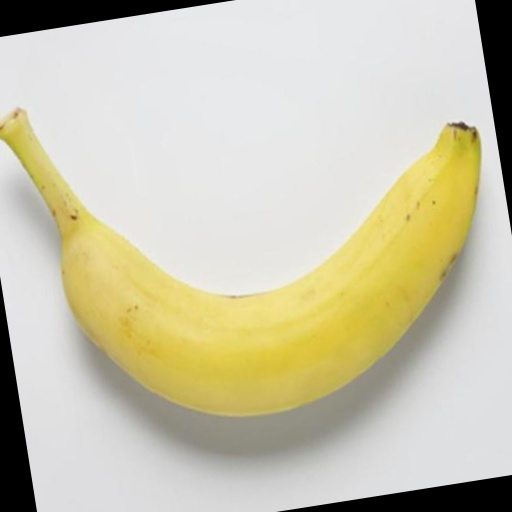fruit: (0, 78, 36, 206)
